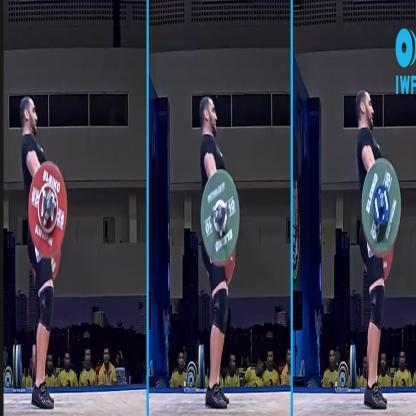barbell: (360, 159, 402, 255), (28, 161, 65, 259), (201, 170, 238, 266)
